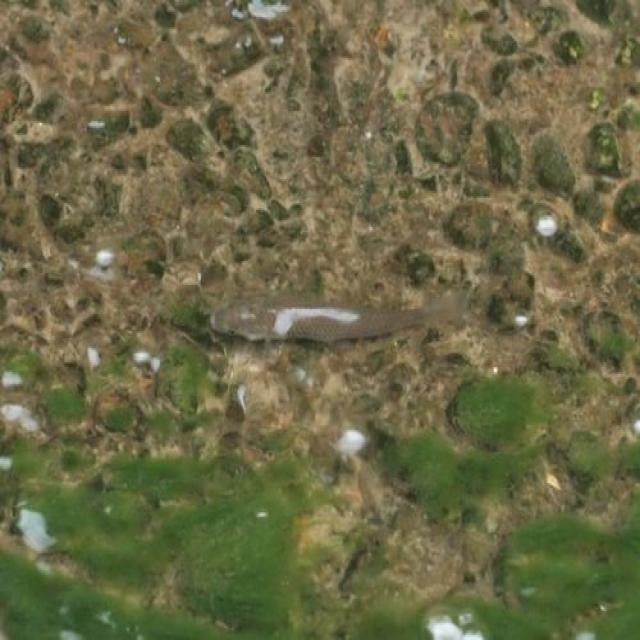Cakil Baligi: (207, 279, 479, 358)
